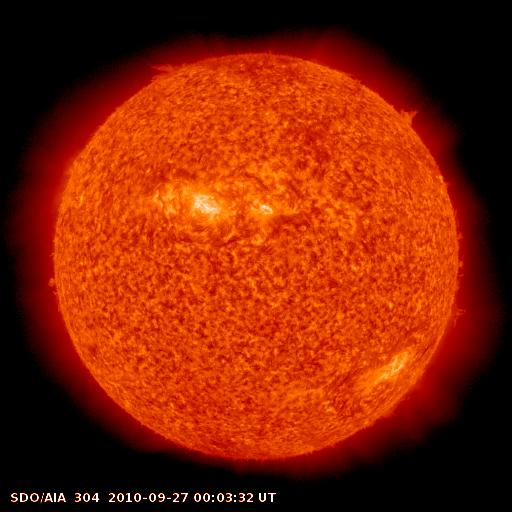prominence: (131, 51, 200, 90), (36, 242, 73, 314), (443, 214, 471, 286), (387, 97, 432, 135), (434, 299, 474, 334)
